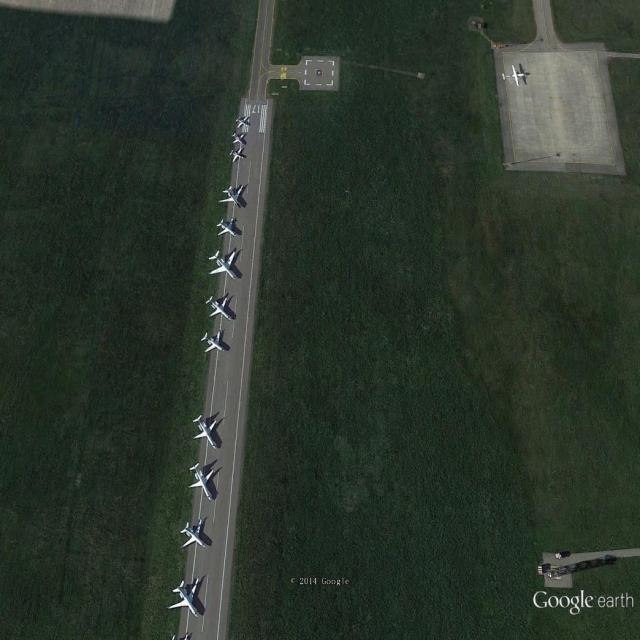aircraft: (170, 575, 205, 624), (185, 459, 217, 505), (190, 412, 222, 454), (207, 248, 240, 286), (201, 292, 236, 326), (181, 516, 209, 553), (500, 62, 529, 91), (217, 183, 247, 211), (199, 328, 227, 357), (215, 217, 242, 242), (228, 148, 247, 166), (232, 131, 248, 150), (236, 116, 252, 129)
